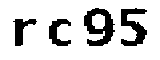5: (117, 6, 149, 47)
9: (82, 6, 114, 51)
c: (45, 15, 75, 51)
r: (11, 15, 40, 52)
